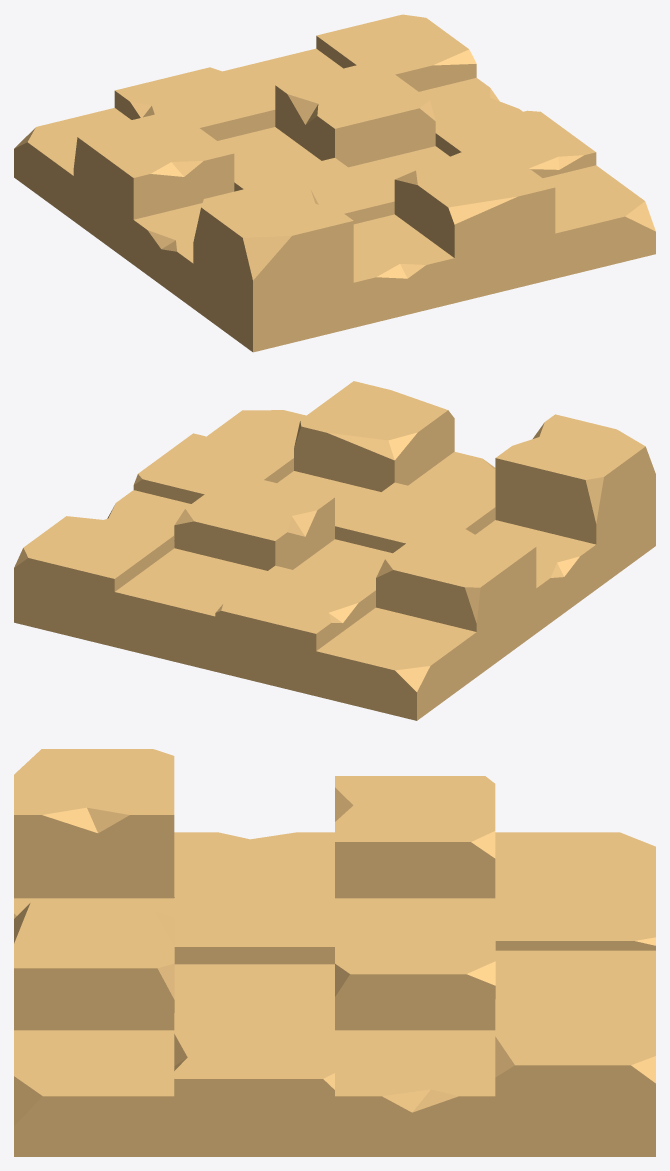
3 renders of one model, top to bottom at view 1: azimuth 30°, elevation 25°; view 2: azimuth 150°, elevation 25°; view 3: azimuth 270°, elevation 25°, orthographic. The views are drawn at different scales.
Visible parts, largest first — view 1: Box001; view 2: Box001; view 3: Box001.
Boxes of the visible parts, x1,y1,x2,y2 form: Box001: (14, 14, 655, 352); Box001: (14, 381, 655, 720); Box001: (14, 749, 655, 1156).
Bounding box in the file's own units: 41.17 × 10.46 × 42.3.
